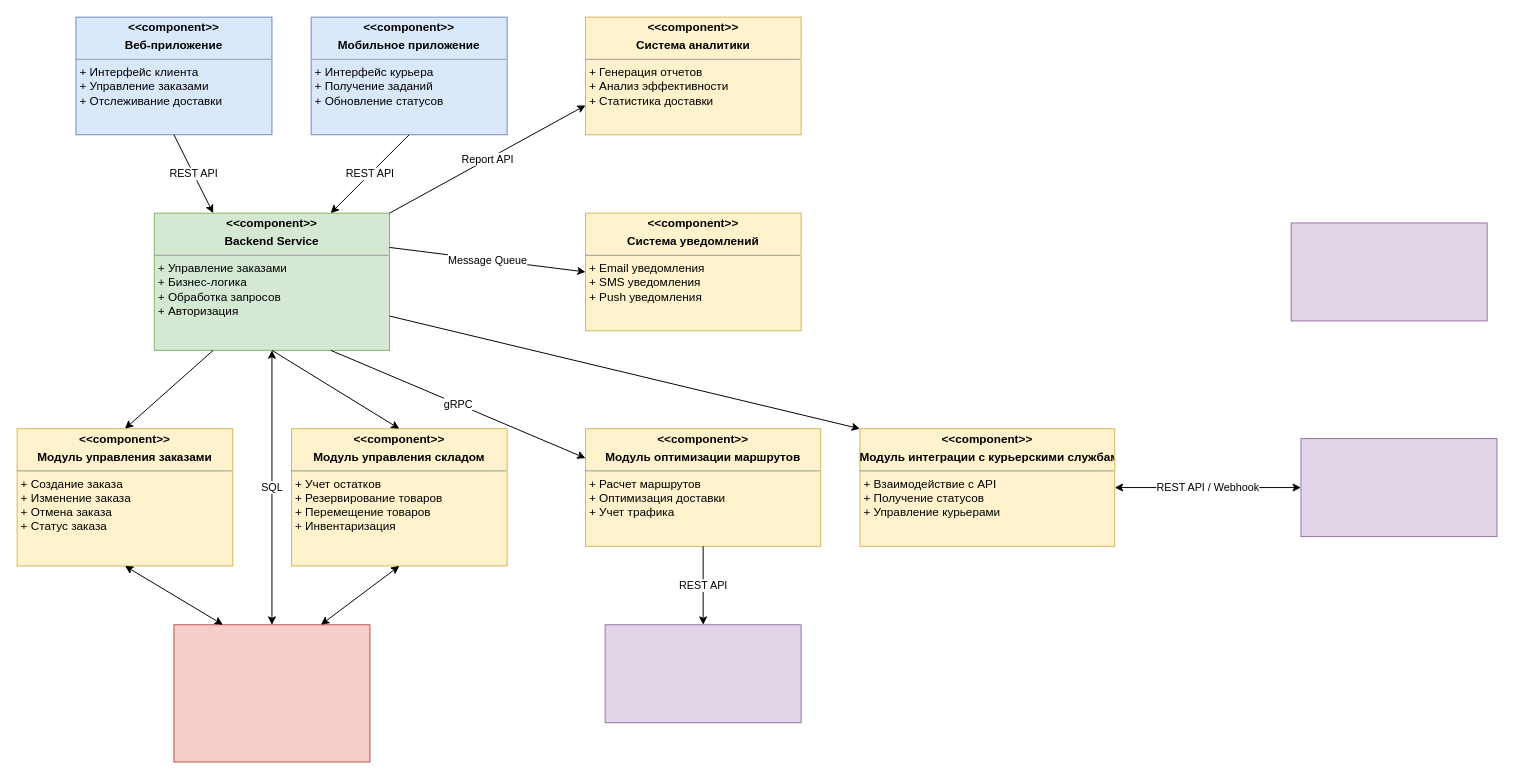
This 1514x779 diagram has some shape labels left out. The shapes that lost their labels are listed below. From the top down, each one's box as (x1, y1, x2, y2) in pixels, then its label:
(1290, 222, 1487, 321): <<external>> Платежная система + Обработка платежей + Возвраты
(1300, 438, 1497, 537): <<external>> API курьерских служб + Внешние курьеры + Трекинг
(173, 624, 370, 762): <<component>> База данных + Заказы + Товары + Клиенты + Маршруты + Курьеры
(604, 624, 801, 723): <<external>> API карт + Геолокация + Маршруты
